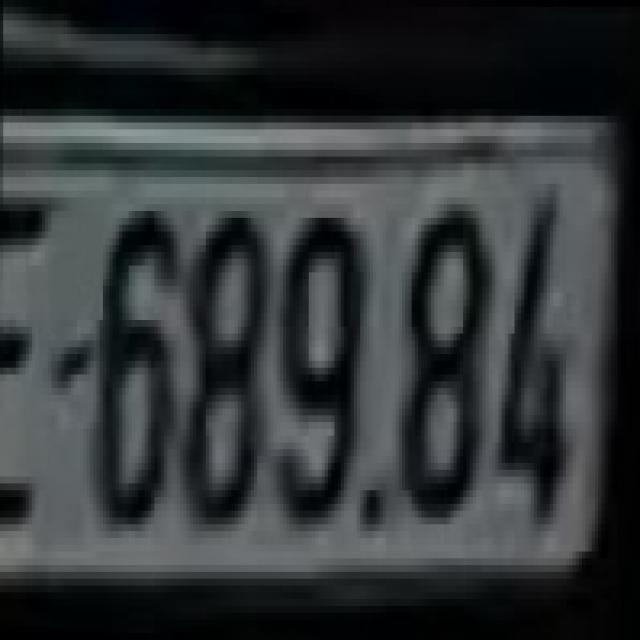4: (498, 177, 572, 524)
6: (96, 205, 177, 524)
8: (399, 198, 489, 524), (186, 205, 264, 524)
9: (276, 205, 361, 524)
E: (0, 163, 45, 538)
